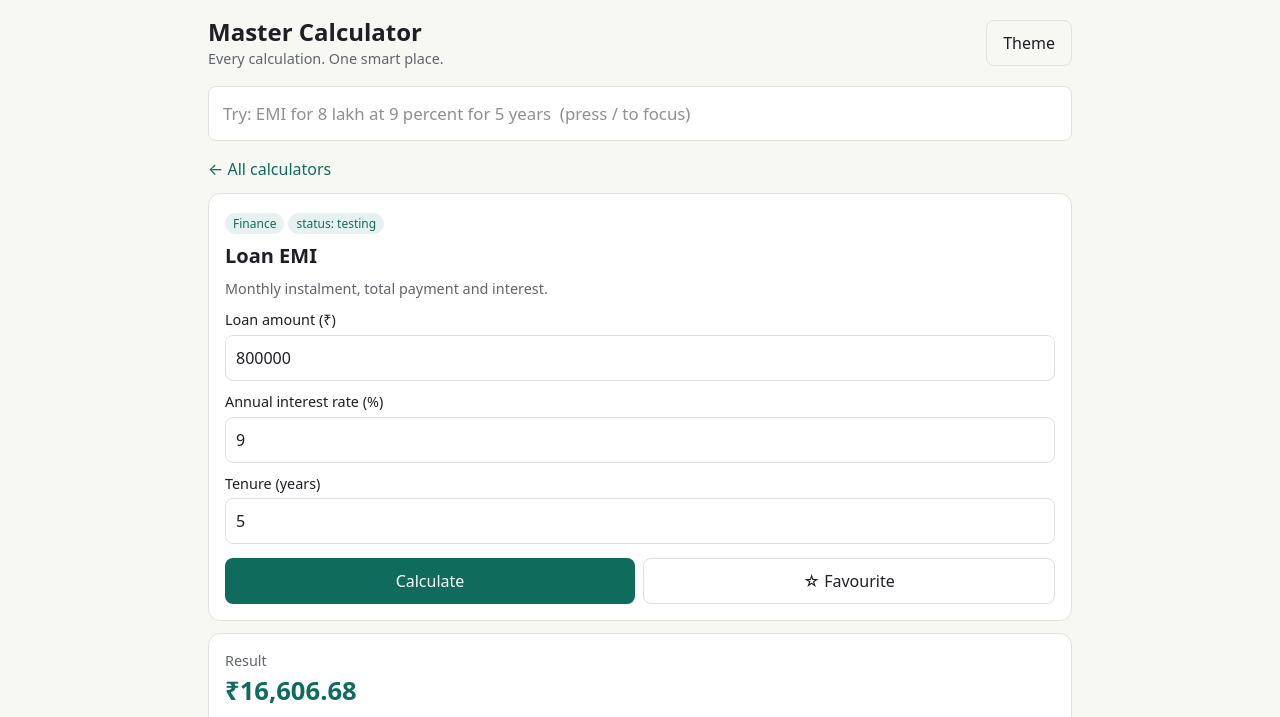
Scenario: app integration › shows an accessible validation error instead of a result
This screenshot has width=1280, height=717.
Replace the text in the field labelled "Loan amount (₹)" with "0" at point(640, 358), box [225,335,1055,381]
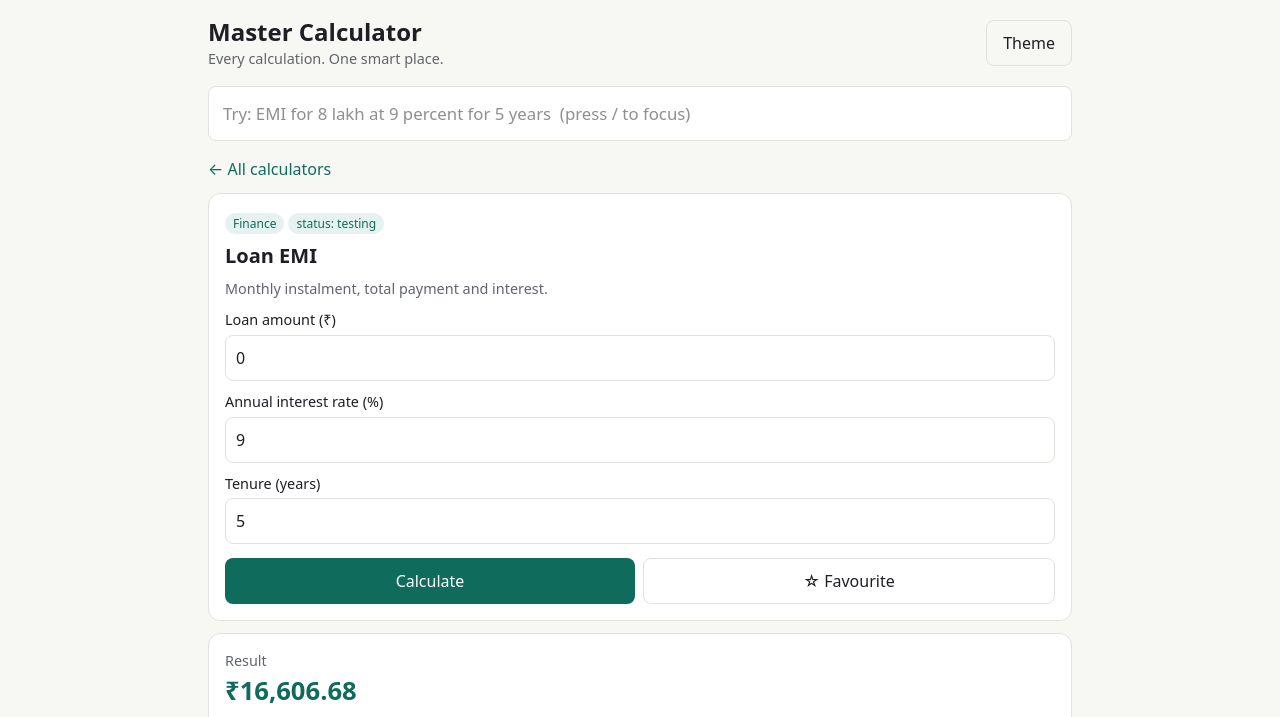
Click the button "Calculate" at point(430, 581), box [225,558,635,604]
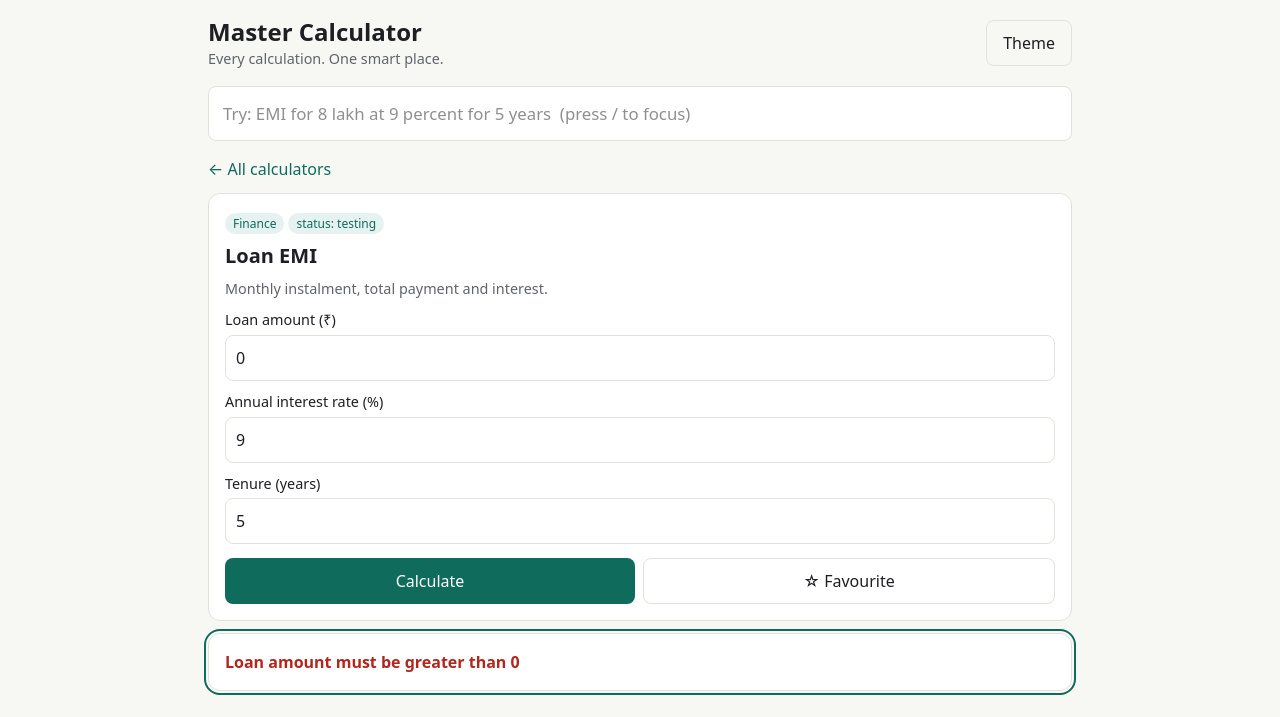
Result: the message reads "Loan amount must be greater than 0" at [225,651,520,673]
Result: the text with test id "main-result" is gone
